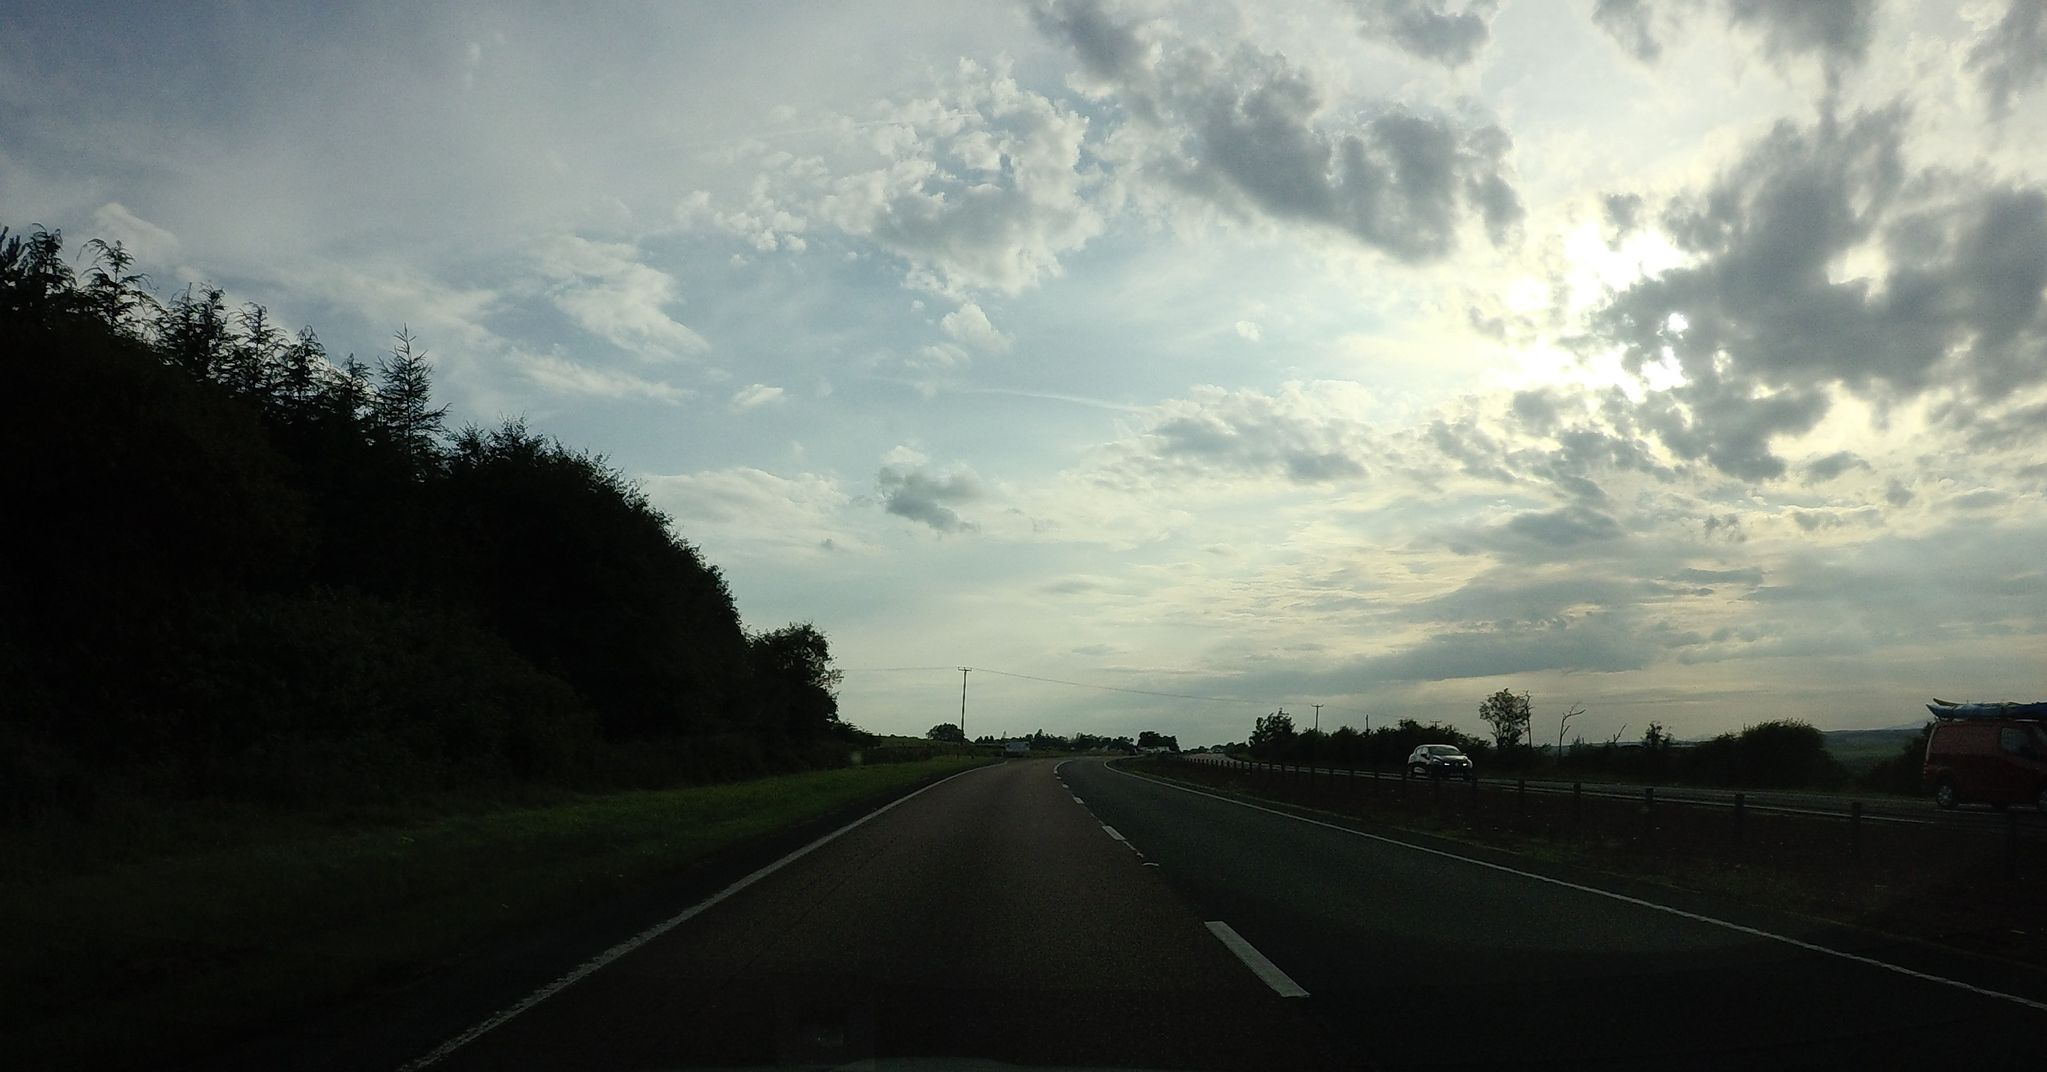car: (1920, 717, 2047, 809), (1408, 743, 1473, 780)
